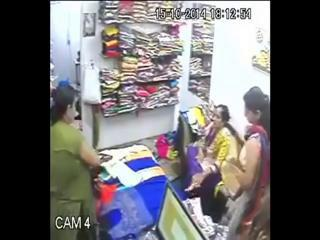Normal: (50, 84, 102, 240), (220, 87, 270, 236), (184, 104, 240, 198)
